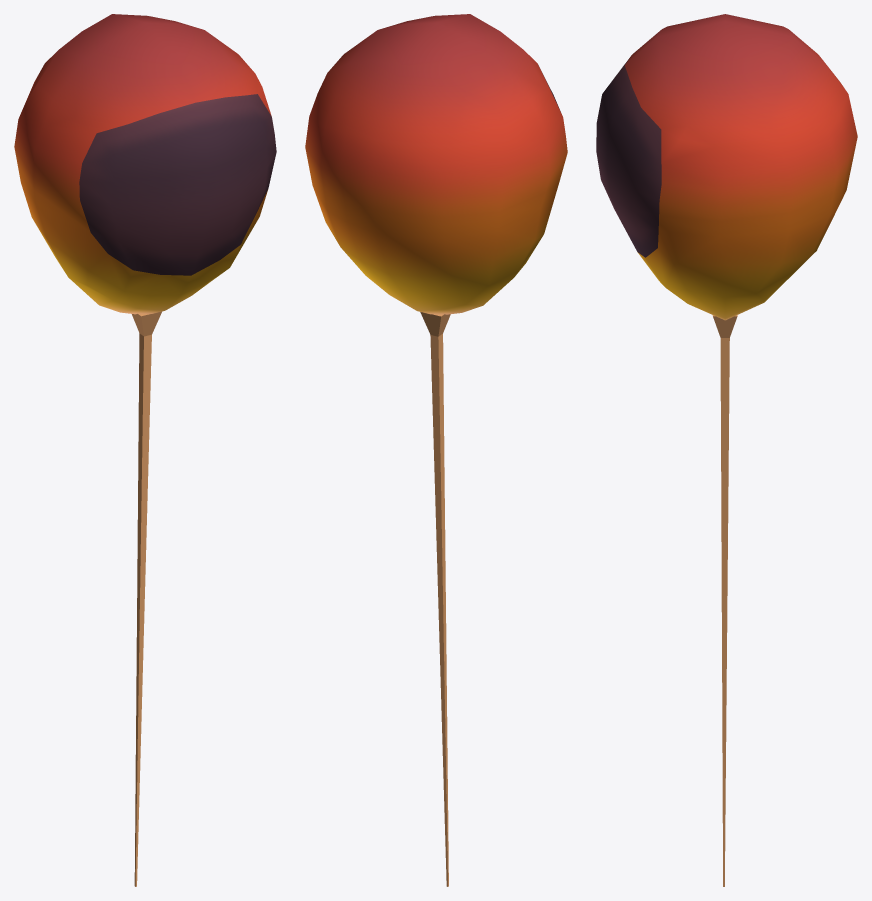
Rendered from StaticBalloon.glb.
The picture shows the model from 3 angles, left to right: view 1: azimuth 30°, elevation 25°; view 2: azimuth 150°, elevation 25°; view 3: azimuth 270°, elevation 25°; orthographic projection.
Parts seen in each view (by area): view 1: balloons.002; view 2: balloons.002; view 3: balloons.002.
Boxes of the visible parts, left/top/right/bottom form: balloons.002: left=14, top=14, right=276, bottom=886; balloons.002: left=305, top=14, right=567, bottom=886; balloons.002: left=596, top=14, right=857, bottom=886.
Bounding box in the file's own units: 0.7014 × 2.56 × 0.6969.
Materials: 1 (1 with a texture image).
